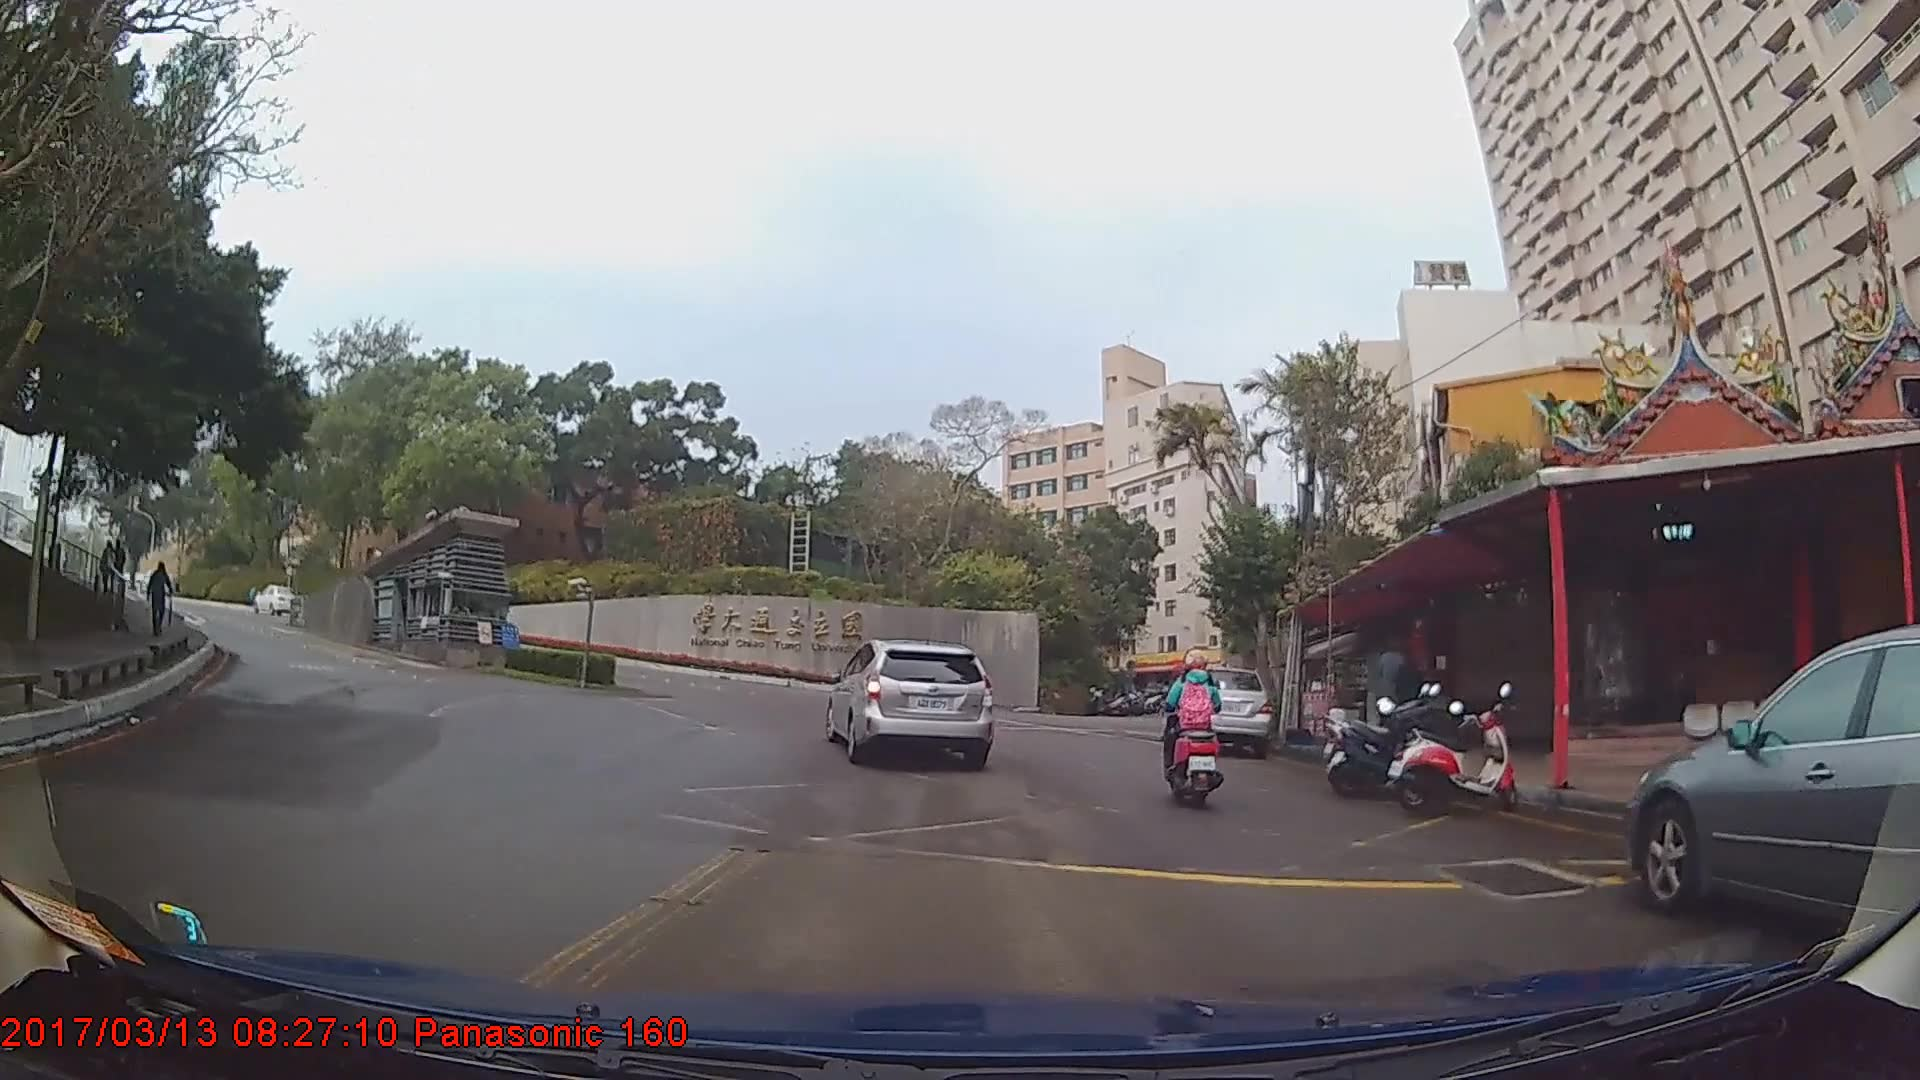pedestrian: (1389, 644, 1430, 748), (145, 564, 173, 638), (100, 538, 121, 600), (111, 541, 131, 596)
rider: (1156, 650, 1231, 812)
vehicle: (1629, 622, 1920, 932), (825, 638, 992, 769), (1161, 666, 1273, 754), (254, 587, 297, 617)
